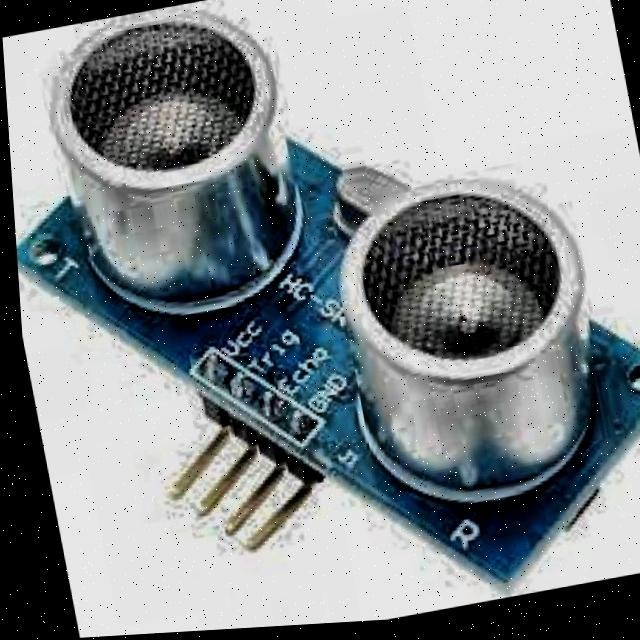Ultrasonic Sensor: (9, 0, 640, 628)
